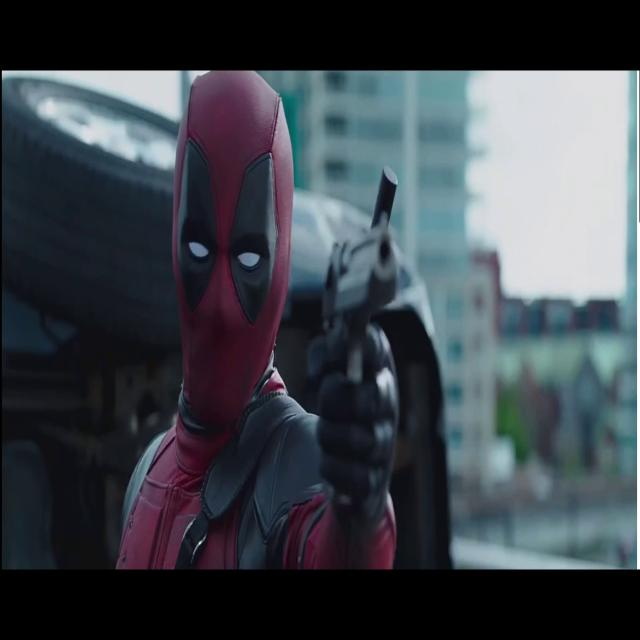weapons: (307, 216, 407, 439)
